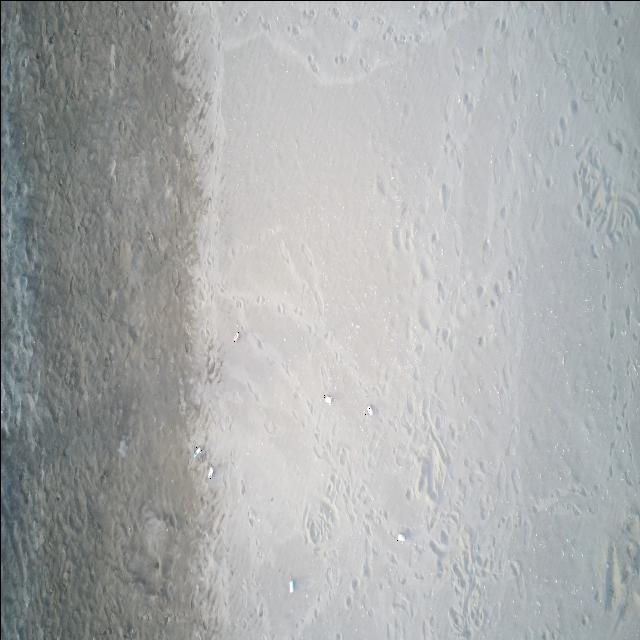Garbage: (192, 448, 204, 459), (364, 404, 372, 415), (324, 393, 332, 403), (207, 466, 213, 479), (232, 332, 239, 342), (288, 579, 293, 592), (396, 532, 404, 540)
